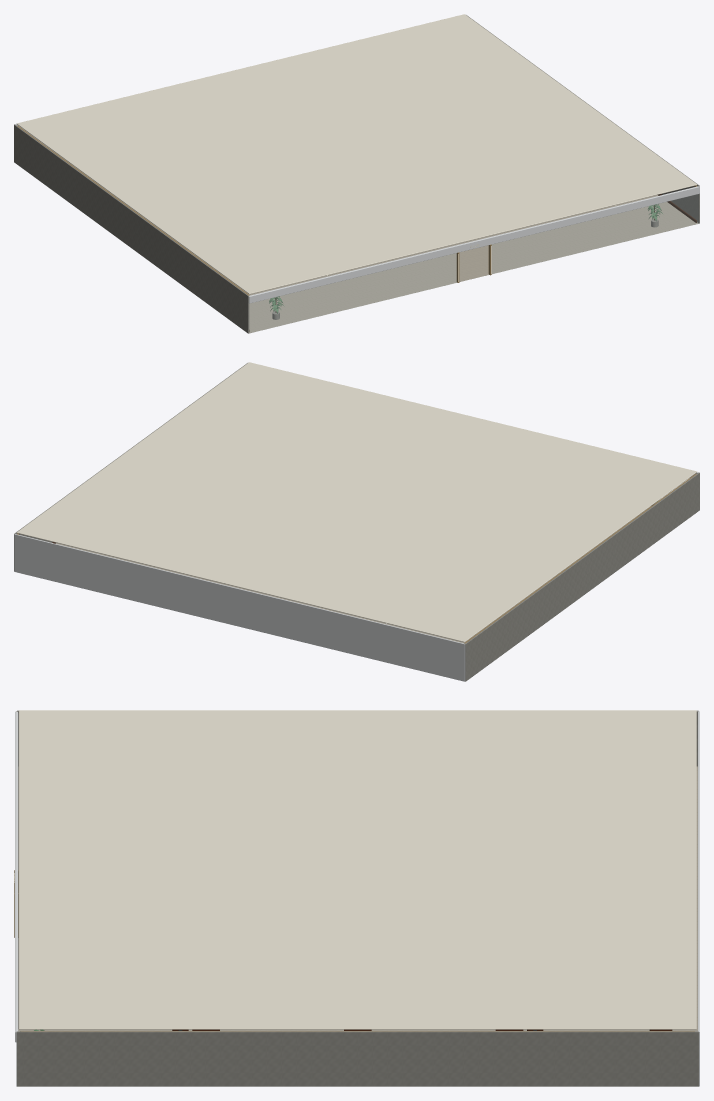
Rendered from apple.glb.
The picture shows the model from 3 angles, top to bottom: view 1: azimuth 30°, elevation 25°; view 2: azimuth 150°, elevation 25°; view 3: azimuth 270°, elevation 25°; orthographic projection. The views are drawn at different scales.
Visible parts, largest first — view 1: Batched AUR-L2-APPLE::Warm porcelain, Tenant floor apple, Batched AUR-L2-APPLE::Tenant glass, Batched AUR-L2-APPLE::Travertine, Batched AUR-L2-APPLE::Tenant apple, Batched AUR-L2-APPLE::Bronze; view 2: Batched AUR-L2-APPLE::Warm porcelain, Batched AUR-L2-APPLE::Tenant apple, Batched AUR-L2-APPLE::Travertine, Tenant floor apple; view 3: Batched AUR-L2-APPLE::Warm porcelain, Batched AUR-L2-APPLE::Travertine, Batched AUR-L2-APPLE::Tenant apple, Tenant floor apple, Batched AUR-L2-APPLE::Bronze.
Boxes of the visible parts, x1=… form: Batched AUR-L2-APPLE::Warm porcelain: x1=16, y1=14, x2=697, y2=294; Tenant floor apple: x1=55, y1=152, x2=698, y2=333; Batched AUR-L2-APPLE::Tenant glass: x1=249, y1=194, x2=698, y2=332; Batched AUR-L2-APPLE::Travertine: x1=14, y1=15, x2=699, y2=333; Batched AUR-L2-APPLE::Tenant apple: x1=14, y1=124, x2=699, y2=303; Batched AUR-L2-APPLE::Bronze: x1=17, y1=125, x2=696, y2=295; Batched AUR-L2-APPLE::Warm porcelain: x1=16, y1=362, x2=697, y2=642; Batched AUR-L2-APPLE::Tenant apple: x1=14, y1=472, x2=699, y2=681; Batched AUR-L2-APPLE::Travertine: x1=14, y1=363, x2=699, y2=681; Tenant floor apple: x1=56, y1=500, x2=658, y2=643; Batched AUR-L2-APPLE::Warm porcelain: x1=14, y1=710, x2=696, y2=1029; Batched AUR-L2-APPLE::Travertine: x1=16, y1=710, x2=698, y2=1086; Batched AUR-L2-APPLE::Tenant apple: x1=15, y1=711, x2=699, y2=1086; Tenant floor apple: x1=18, y1=766, x2=697, y2=1031; Batched AUR-L2-APPLE::Bronze: x1=14, y1=870, x2=694, y2=1031.
Bounding box in the file's own units: 60.16 × 4.97 × 54.29.
Materials: 11 (4 with a texture image).
